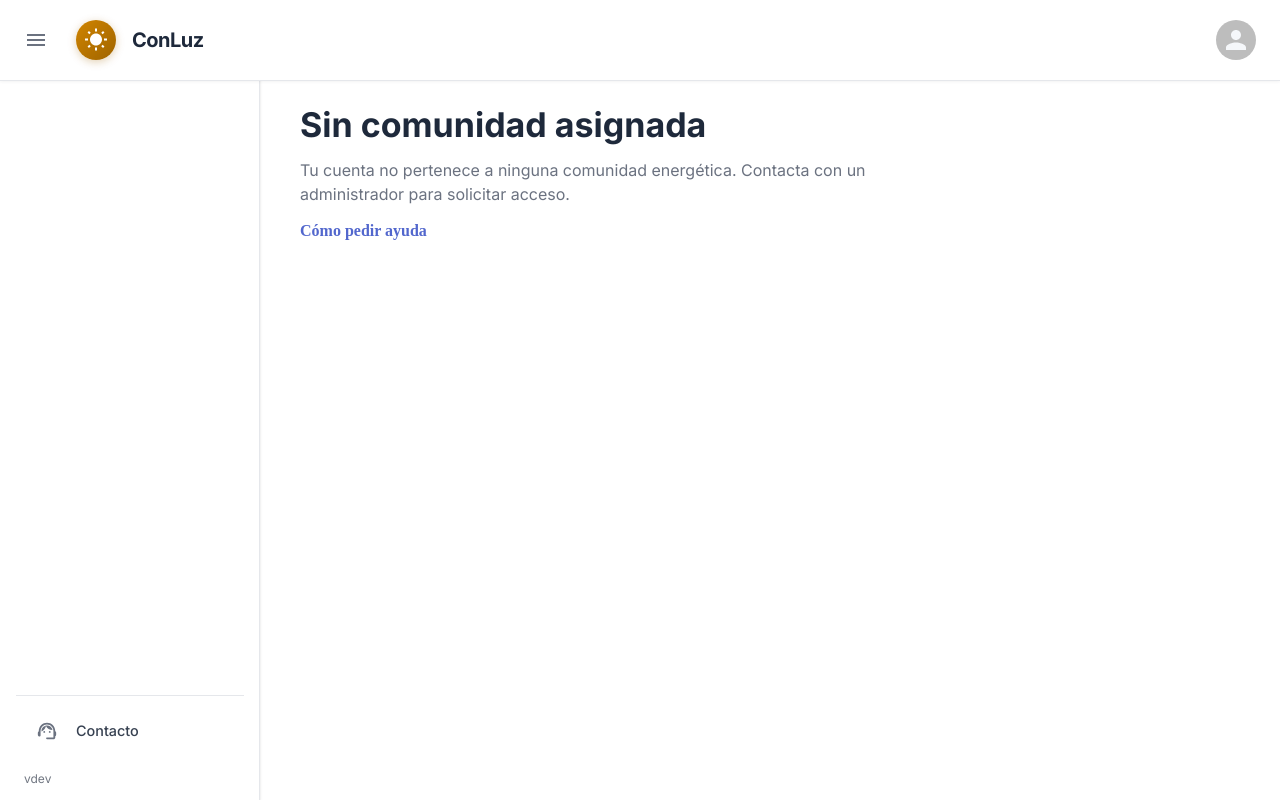
Test: /community/contact for a caller with no community › UI-CTU-003 is reached from the no-community page and shows the fallback, operator included
Click the link "Cómo pedir ayuda": (363, 231) [300,222,427,240]
(page scrolled)
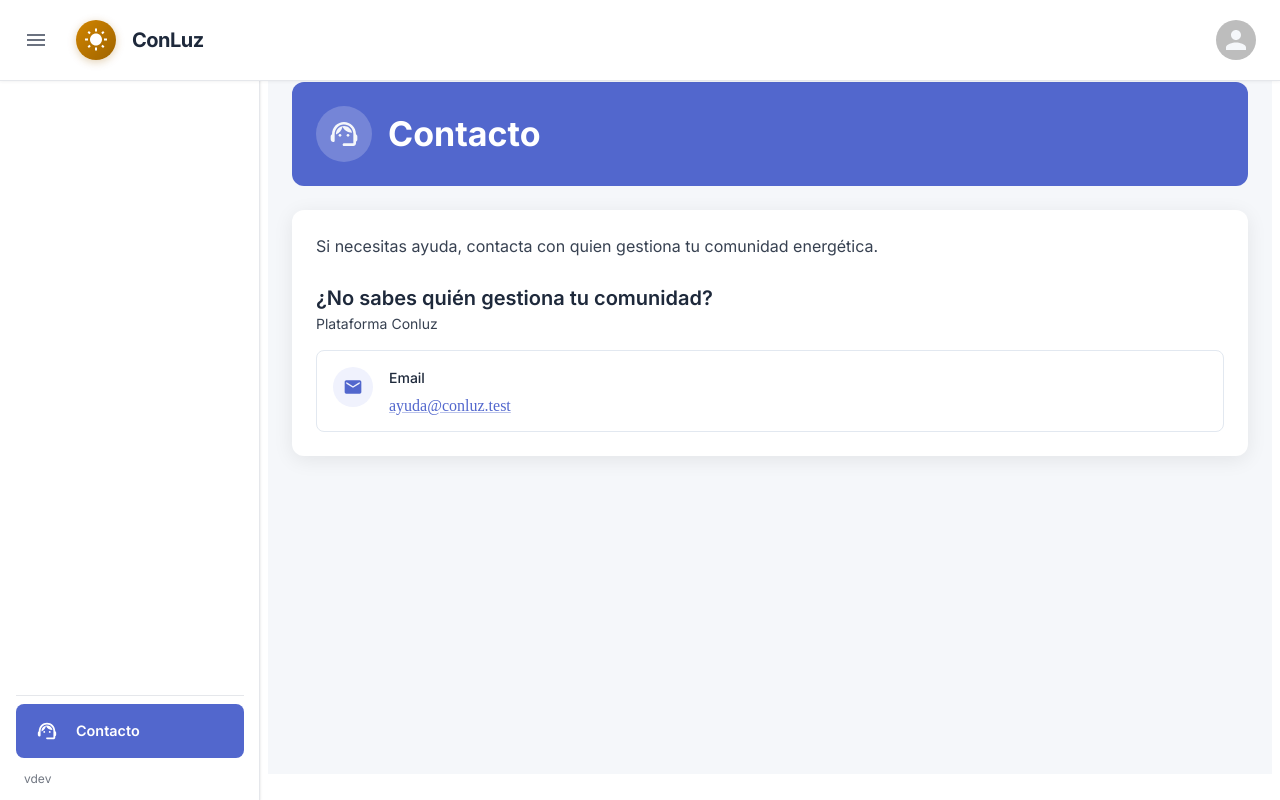
Expected: the text named "path" reads "/community/contact", [8,774,136,791]
Result: the text "Si necesitas ayuda, contacta con quien gestiona tu comunidad energética." is shown at [316,236,878,256]
